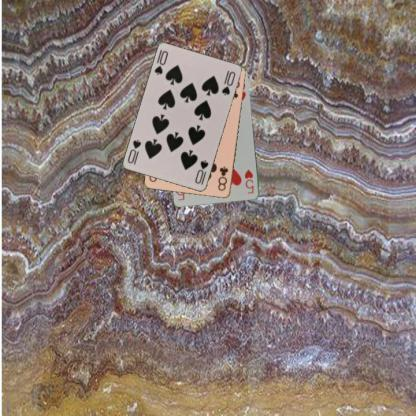10s: (192, 158, 210, 186), (152, 48, 170, 76)
5h: (243, 167, 254, 195)
8c: (216, 164, 230, 192)
